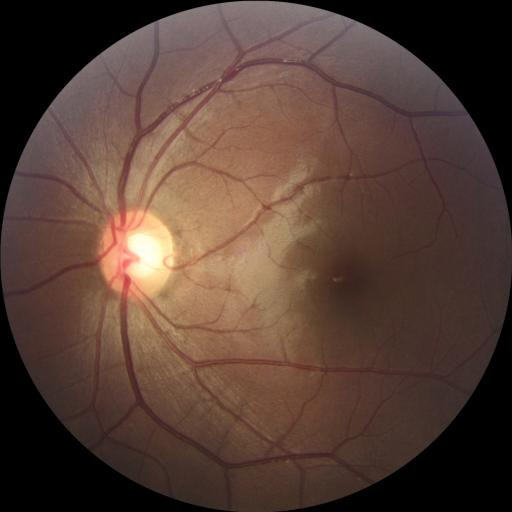Optic Cup: (125, 234, 161, 277)
Optic Disc: (99, 211, 173, 301)
